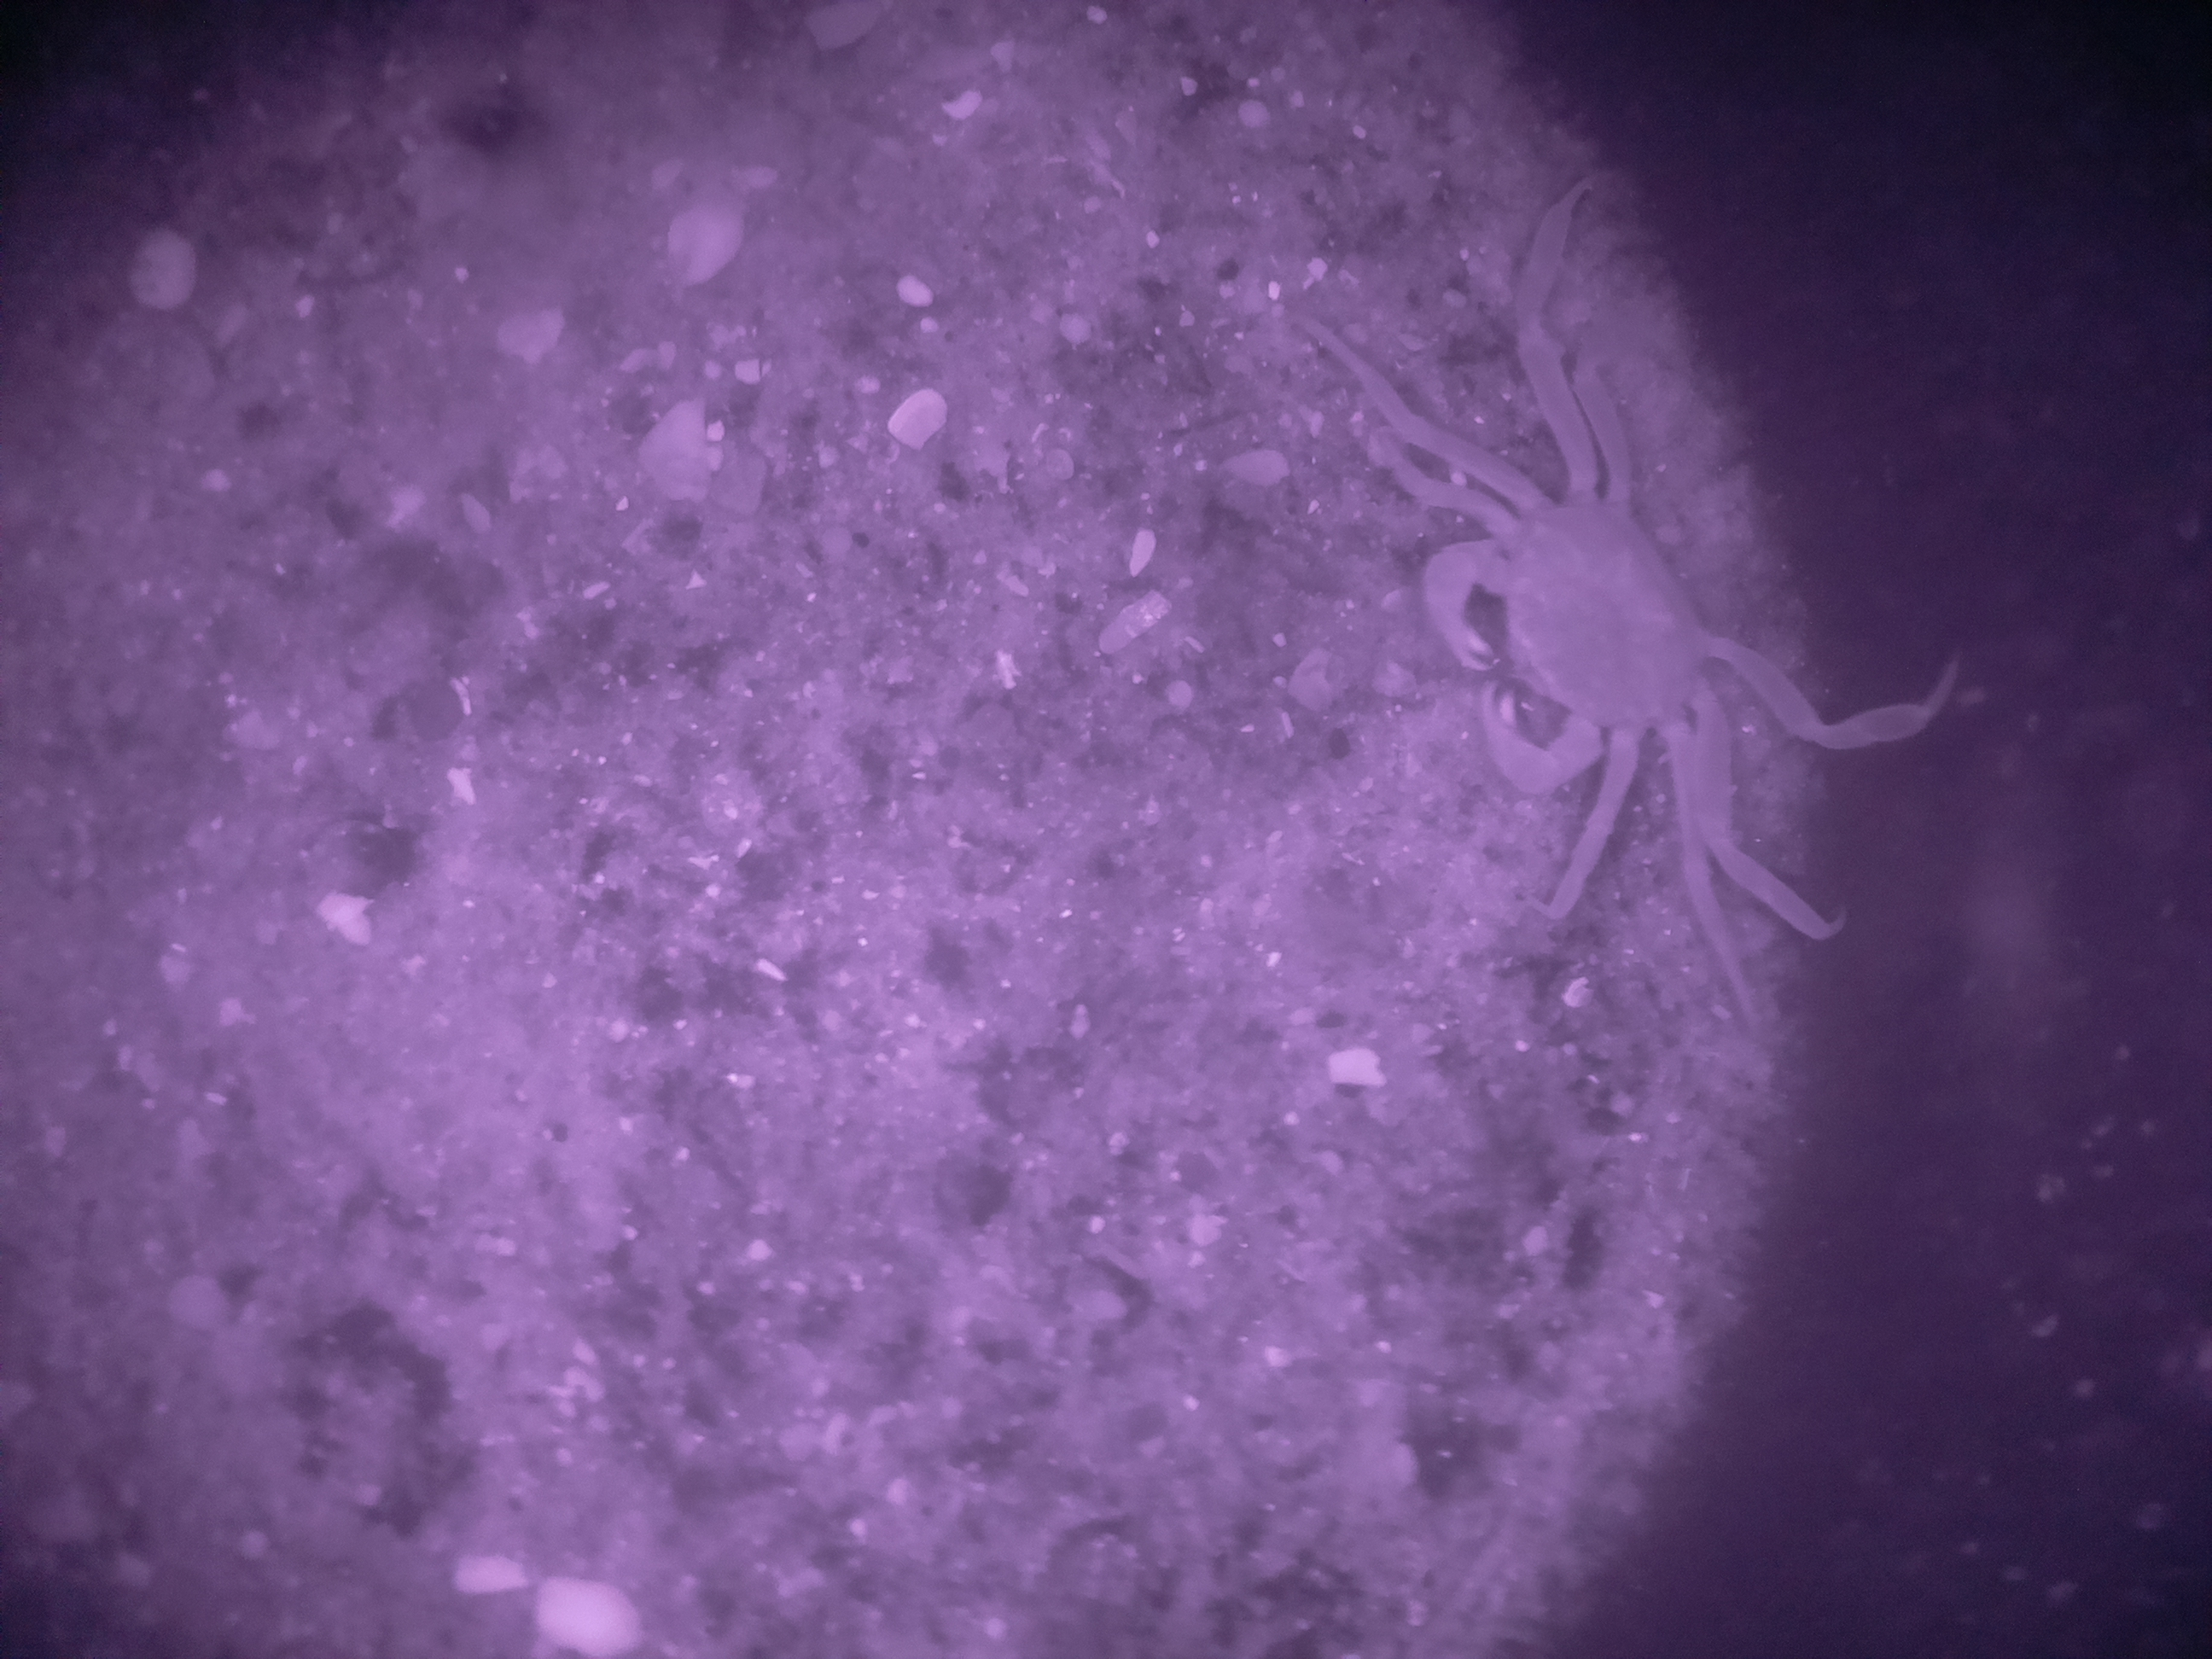Crab: (1318, 408, 1851, 852)
